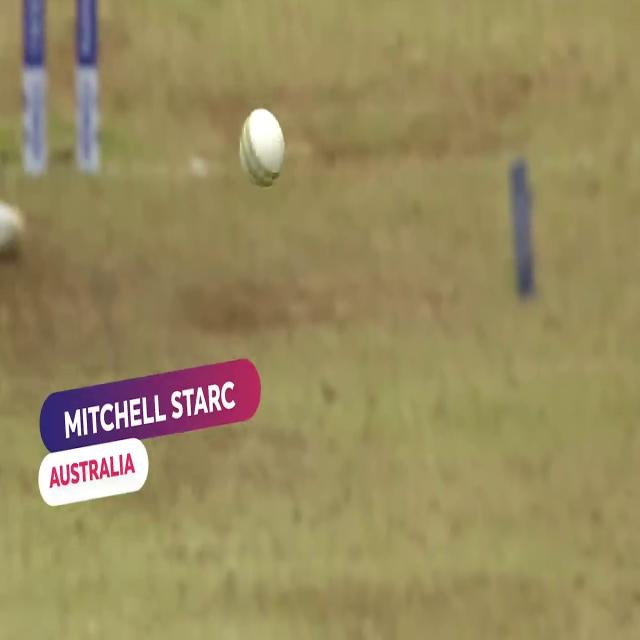ball: (236, 104, 288, 195)
